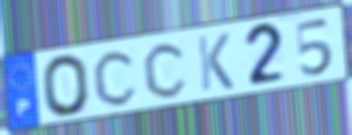2: (240, 20, 292, 92)
5: (293, 15, 336, 79)
C: (141, 39, 190, 100), (91, 47, 140, 108)
K: (195, 31, 236, 93)
O: (39, 52, 93, 119)
